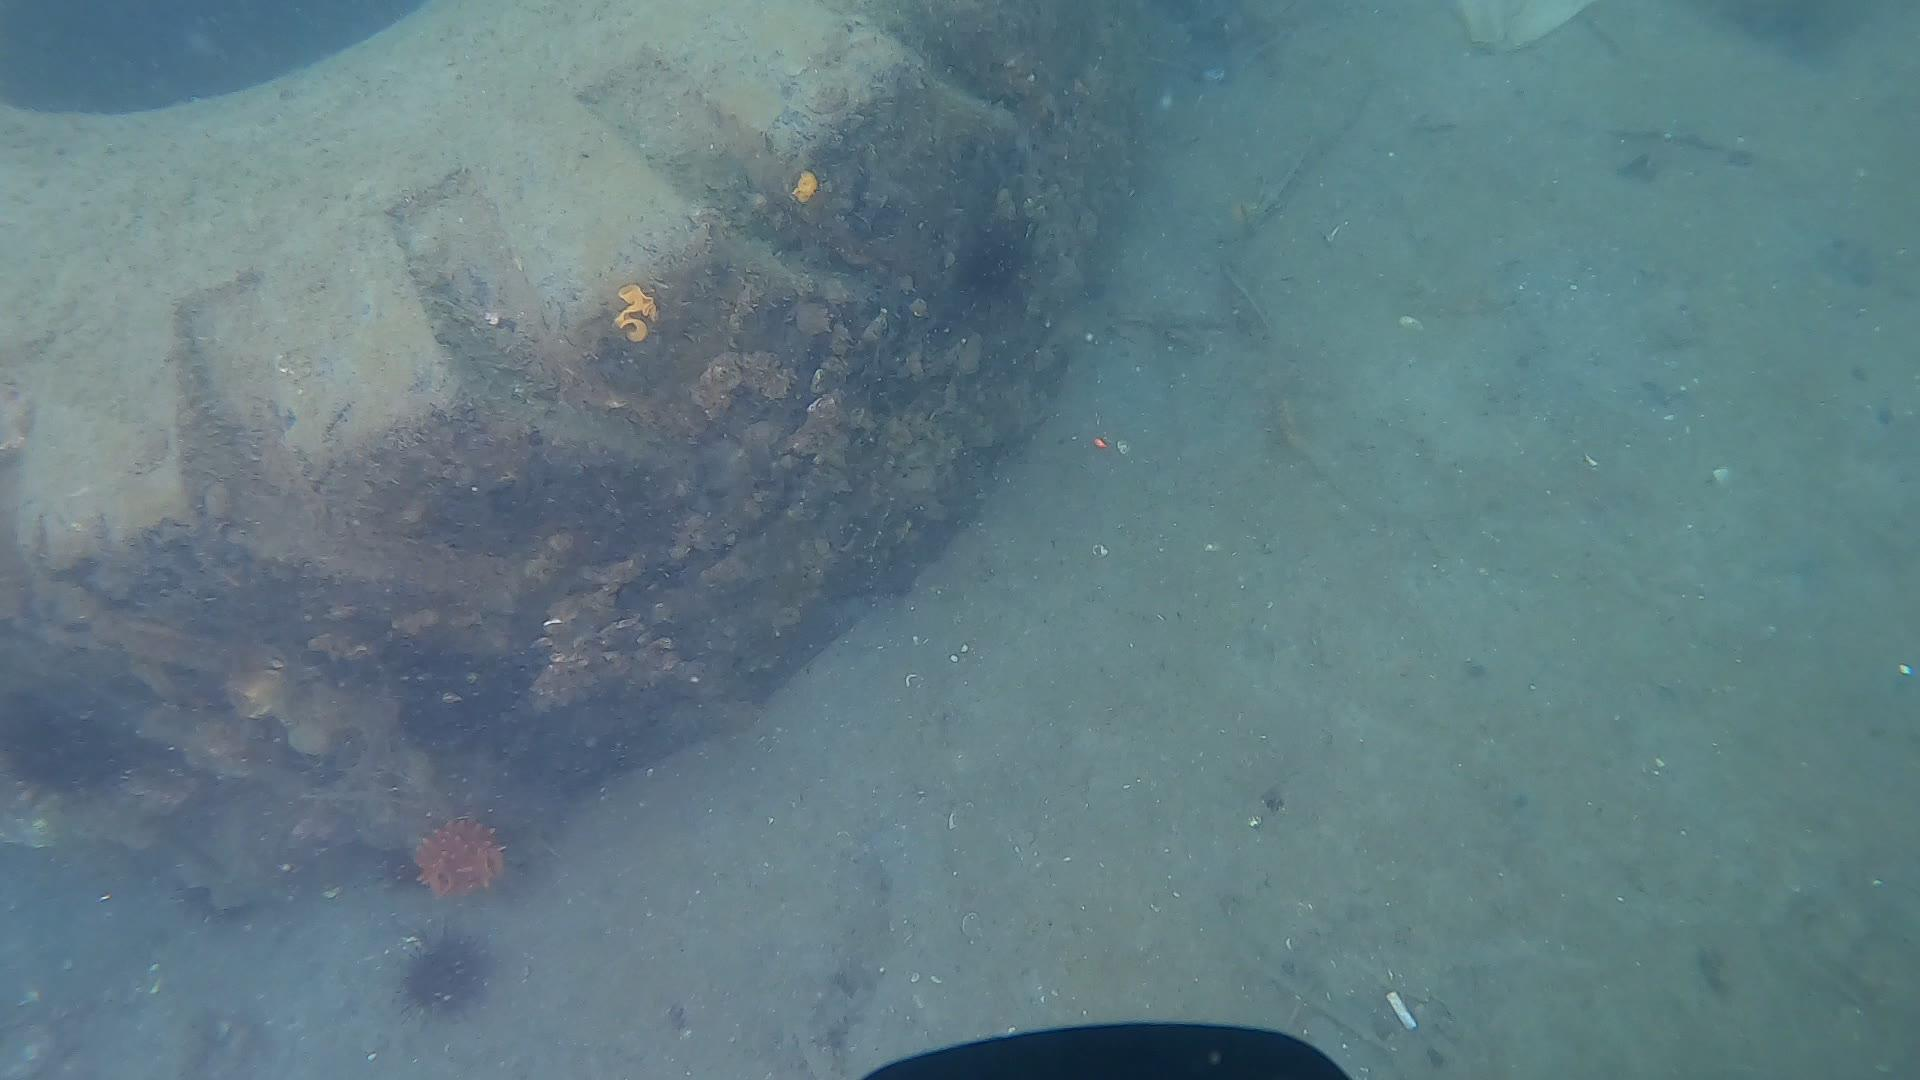tire: (0, 0, 1151, 819)
